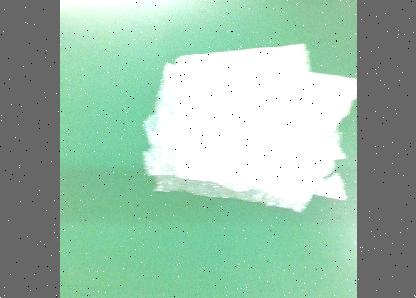Others: (142, 42, 356, 212)
